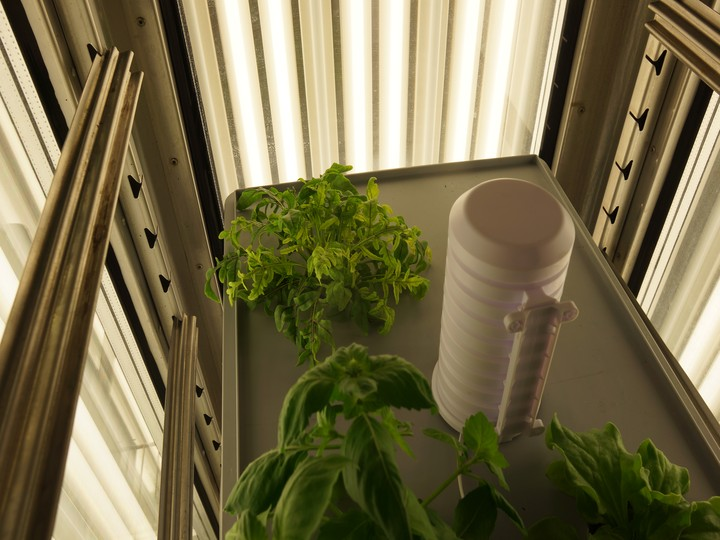basilic_blue_spice: (216, 346, 529, 540)
ficoide_glaciale: (537, 406, 720, 537)
roquette_sauvage_red_veined: (203, 160, 436, 364)
